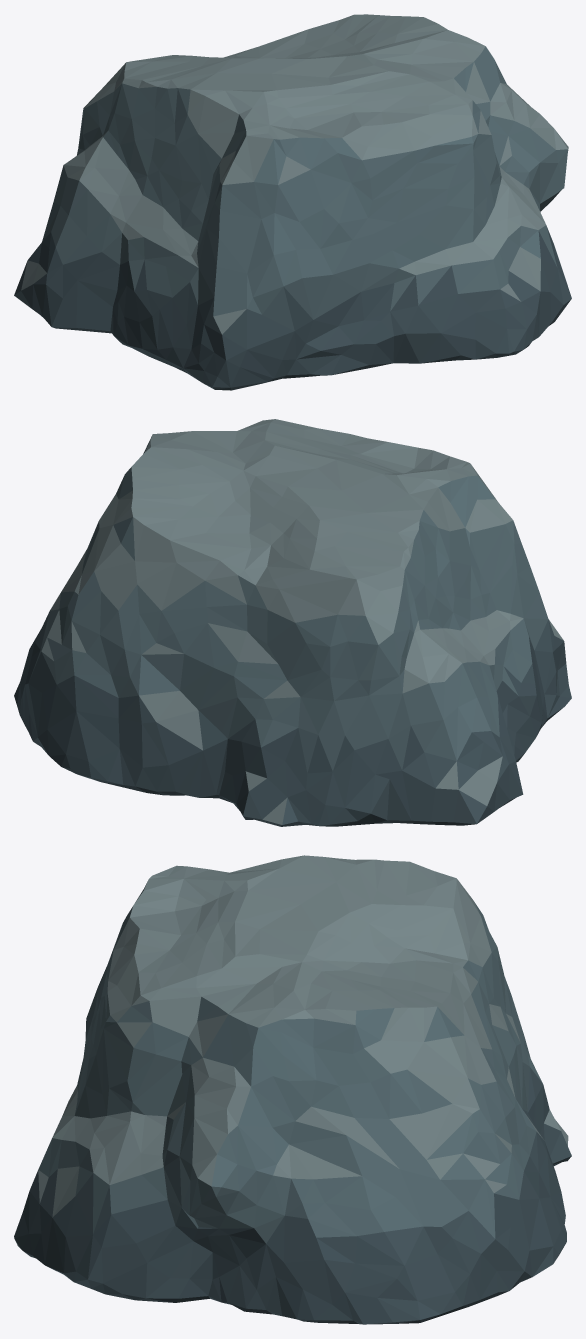
Rendered from rock_1.glb.
The picture shows the model from 3 angles, top to bottom: view 1: azimuth 30°, elevation 25°; view 2: azimuth 150°, elevation 25°; view 3: azimuth 270°, elevation 25°; orthographic projection. The views are drawn at different scales.
Visible parts, largest first — view 1: rock_1; view 2: rock_1; view 3: rock_1.
Part boxes in pixels (<box>): rock_1: <box>14,14,571,390</box>; rock_1: <box>14,419,571,826</box>; rock_1: <box>14,855,571,1324</box>.
Bounding box in the file's own units: 2.5 × 1.2 × 2.2.
